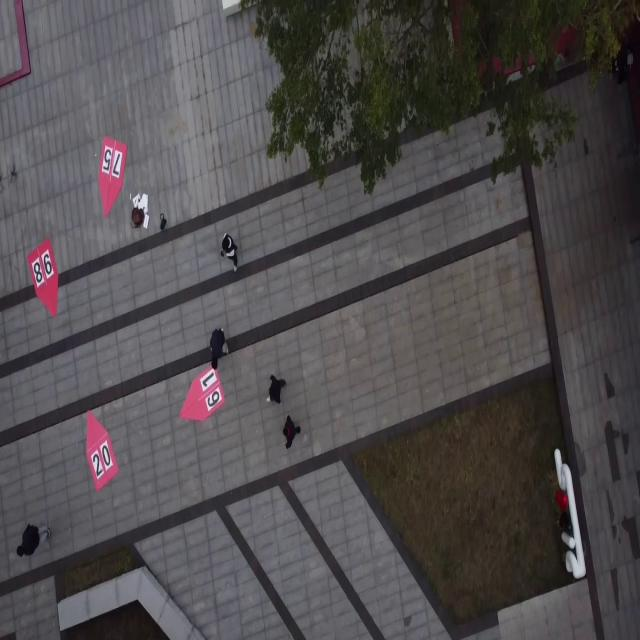-sign-: (85, 409, 120, 497), (29, 242, 62, 324), (176, 370, 227, 421), (98, 136, 127, 220)
